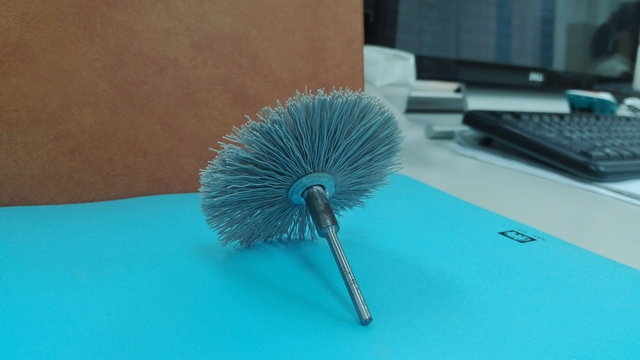TOOL: (185, 70, 419, 324), (196, 82, 401, 254)
